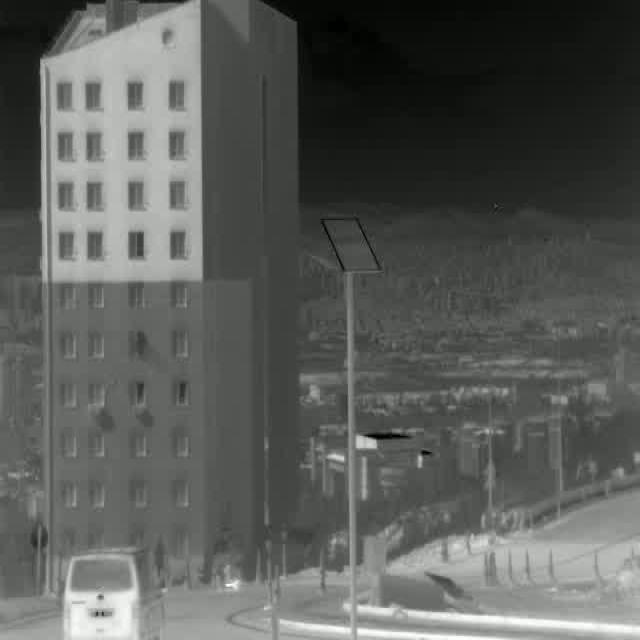Car: (61, 549, 163, 640)
